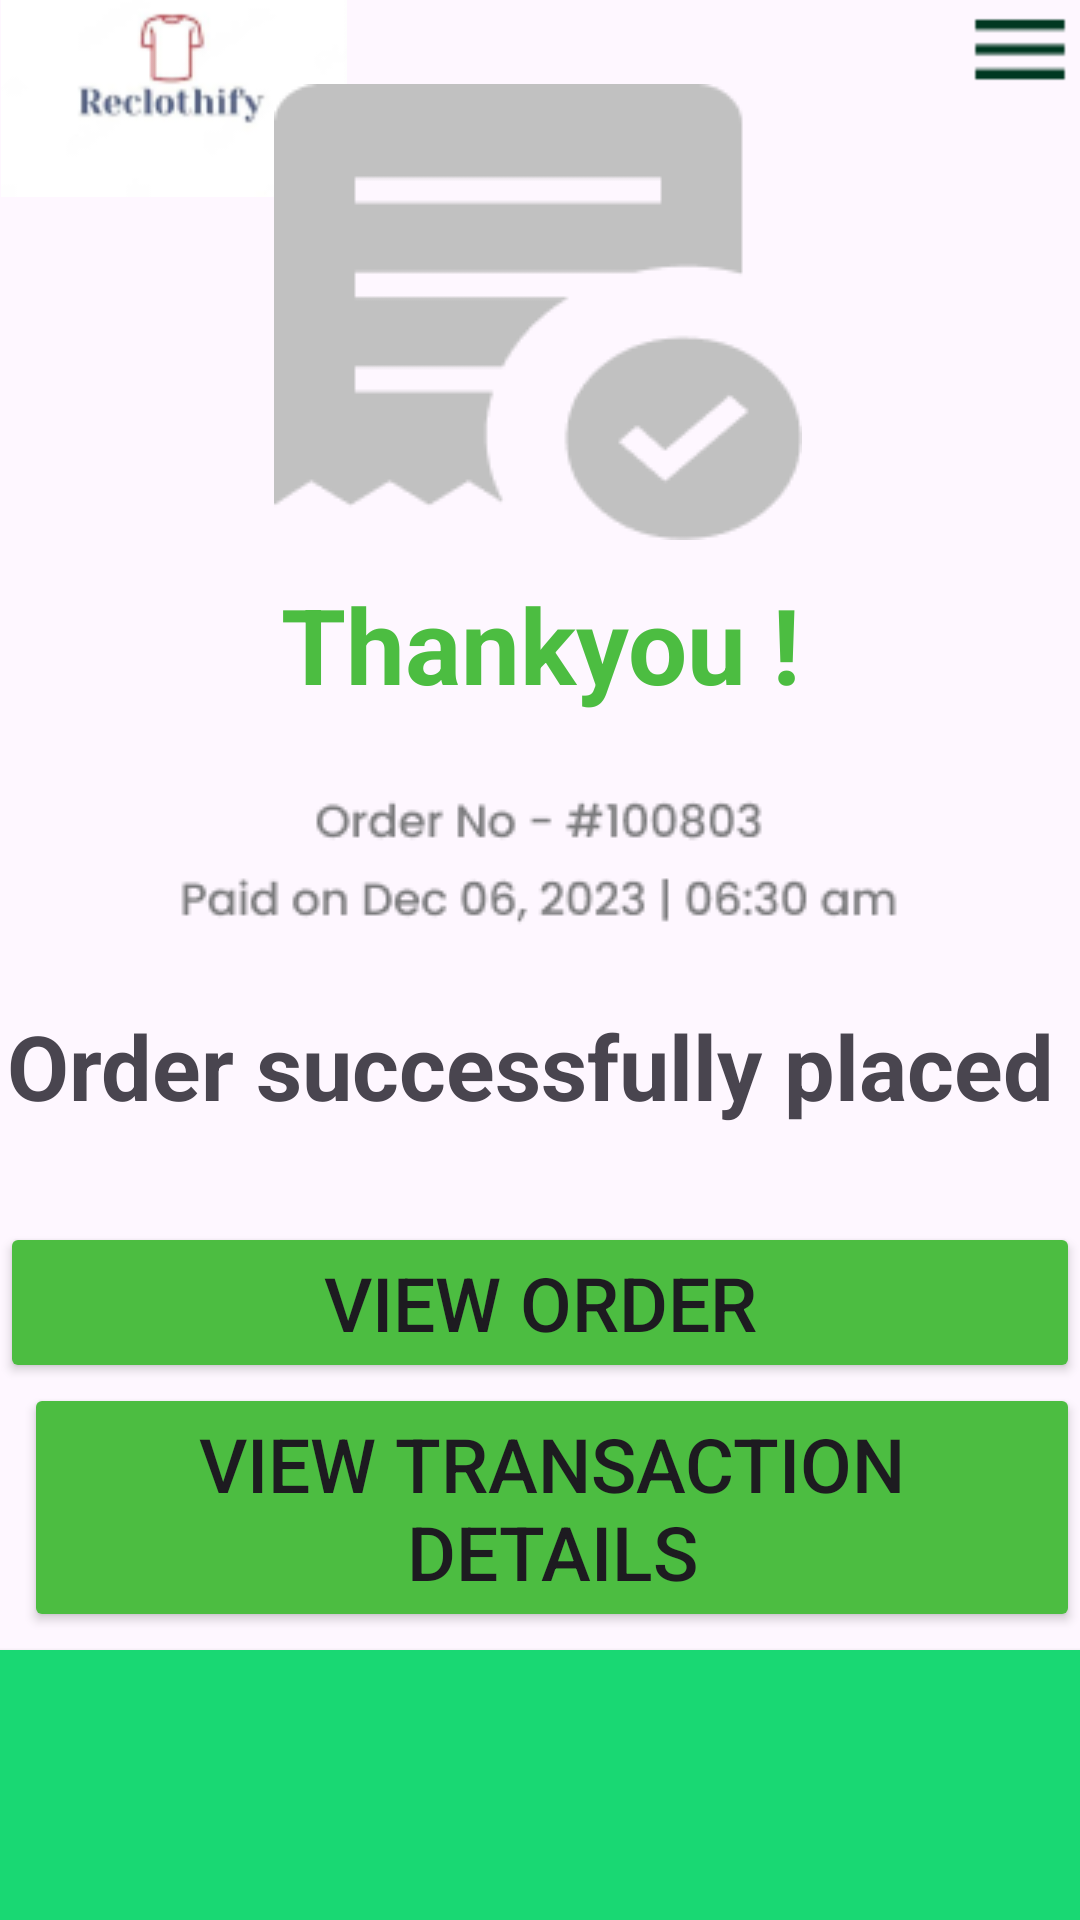

Icons on this 1080×1920 Android screen, each with the point to tap as (x,y):
menu: (1020,49)
